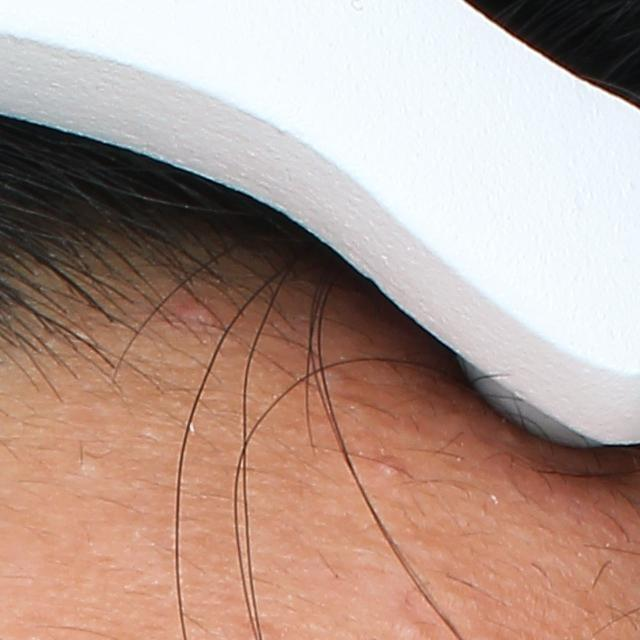papule: (179, 298, 220, 332)
